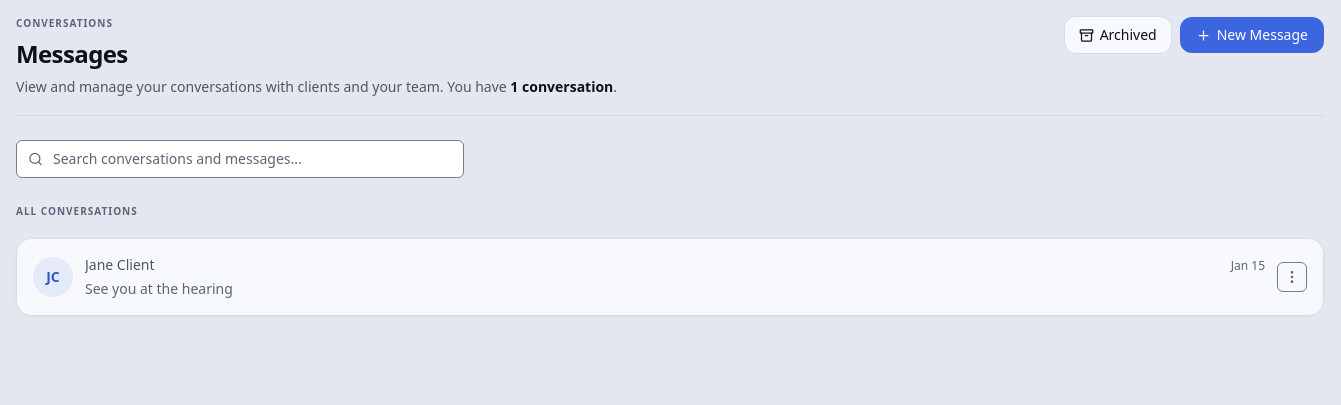
a successful action: archiving a conversation › archives the conversation and removes it from the inbox
Expected: the heading "Jane Client" is shown, [85,255,154,274]
Click the button named "Conversation actions".
click(1292, 277)  # box [1277,262,1307,292]
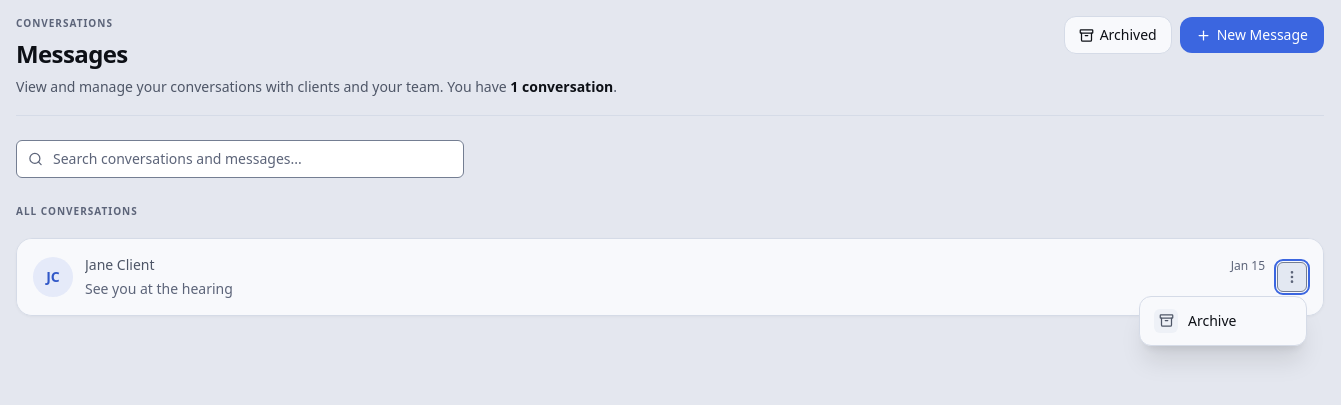
Click the menu item "Archive".
click(1223, 321)  # box [1144,301,1302,341]
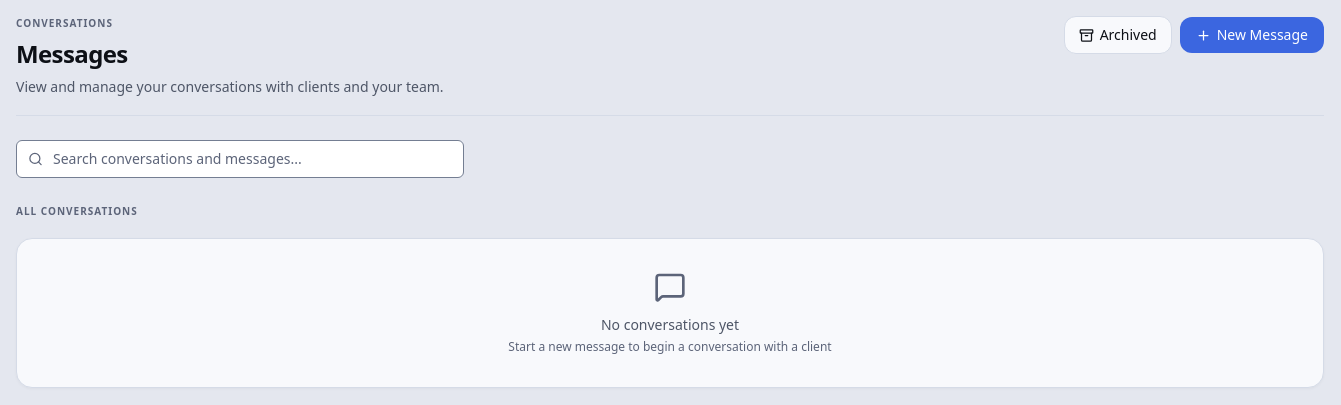
Now the button "Jane Client" is gone
Now the text "No conversations yet" is shown, box [601,315,739,334]
